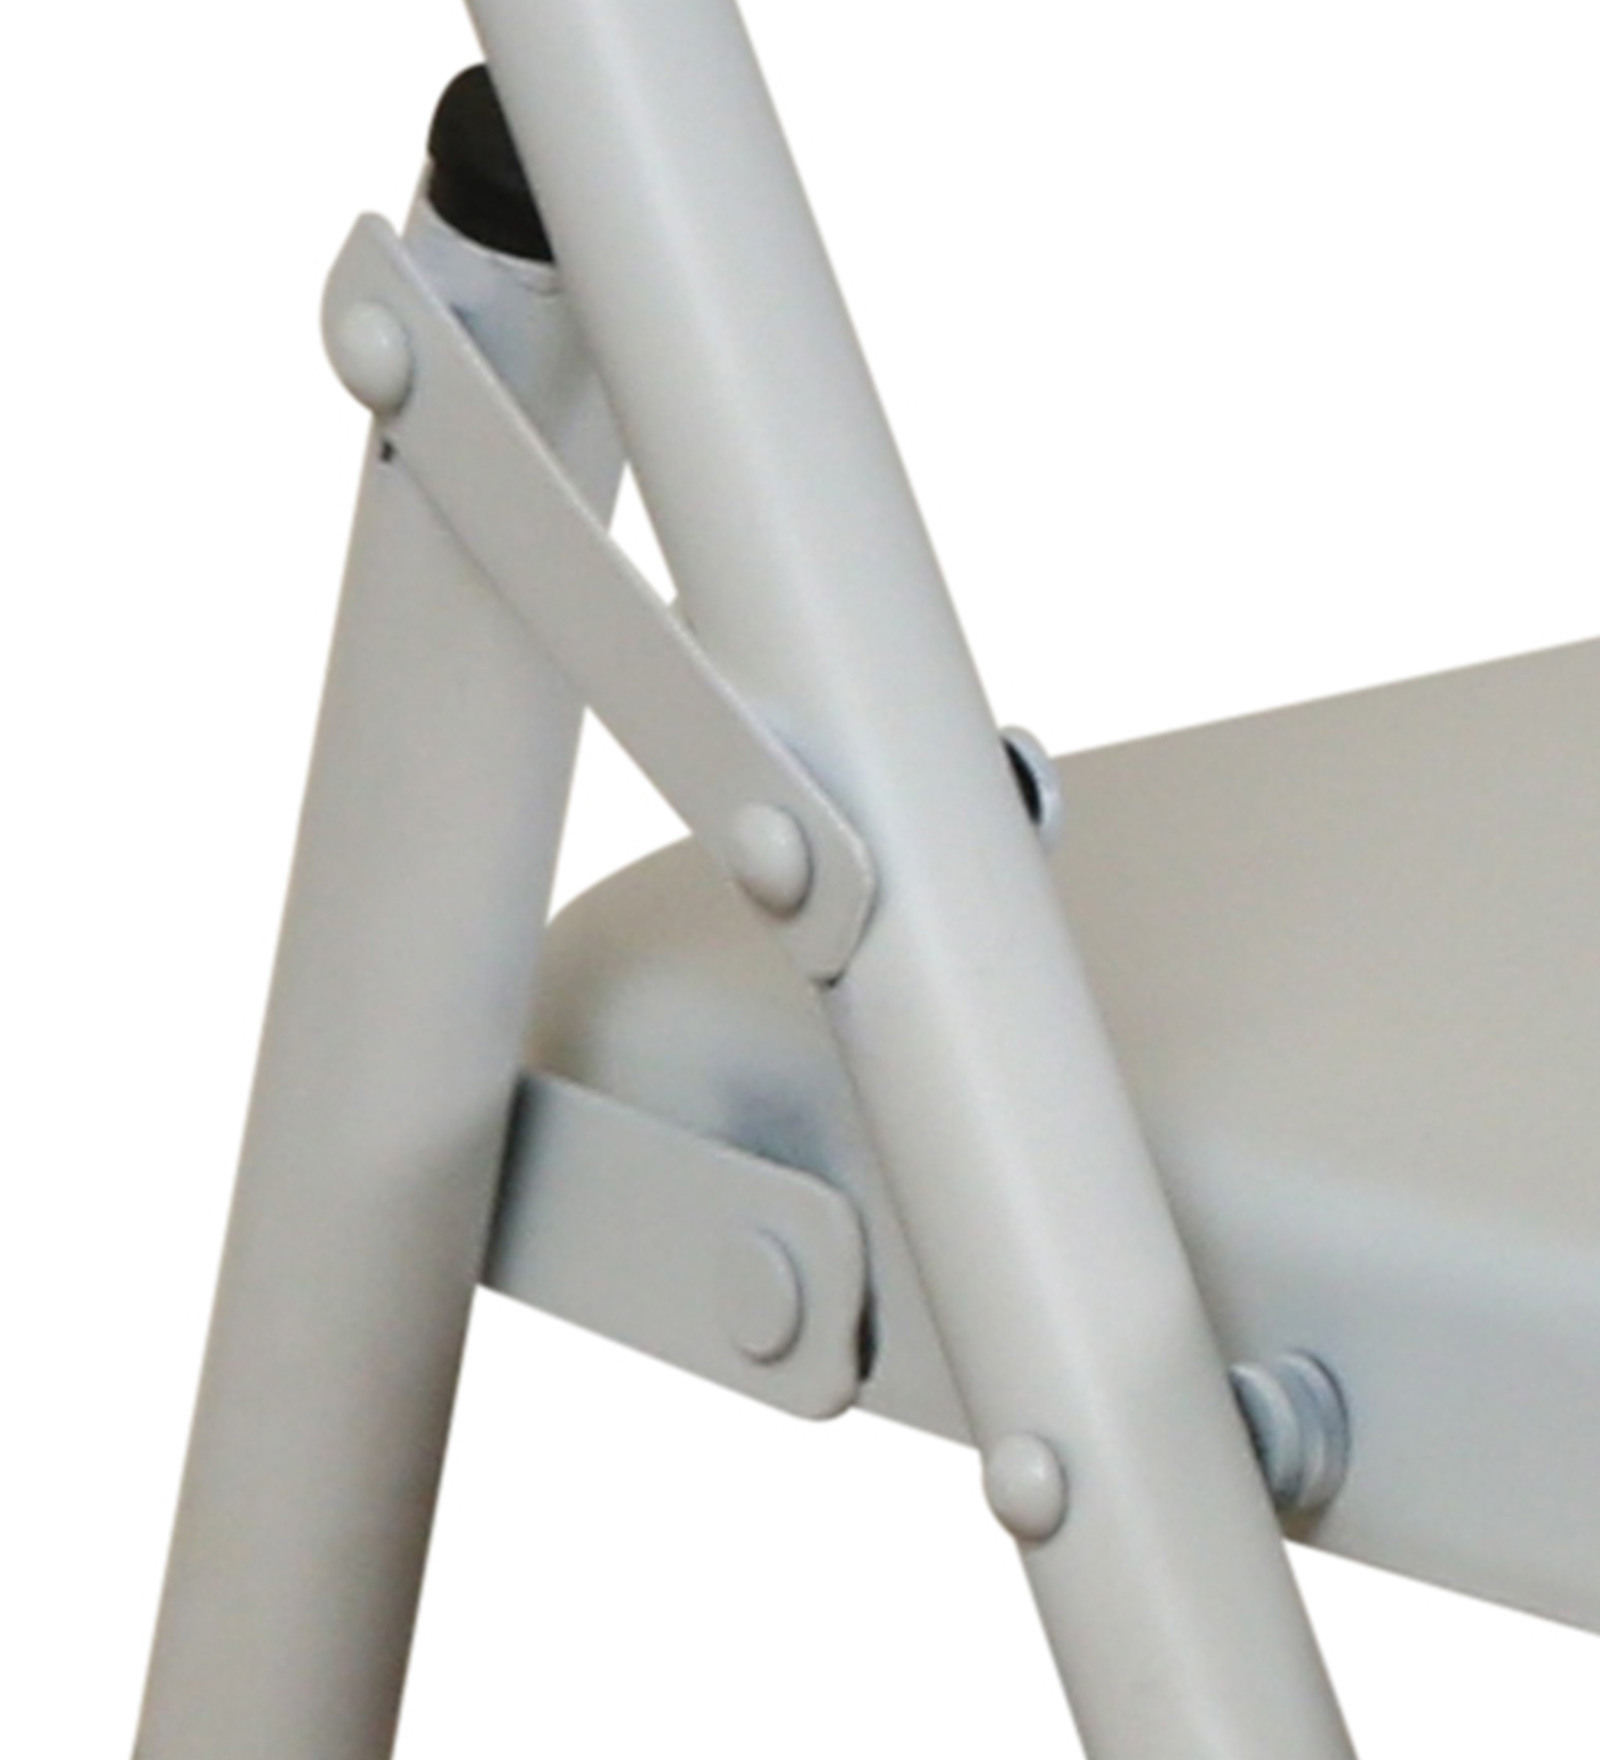Kell Folding Chair in White Color by Bohemiana: (129, 2, 1600, 1760)
